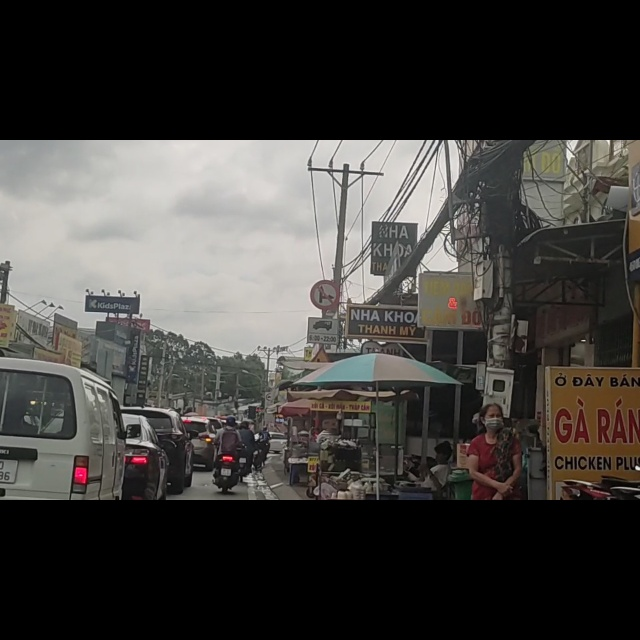bien_cam: (309, 248, 340, 301), (308, 316, 339, 358)
